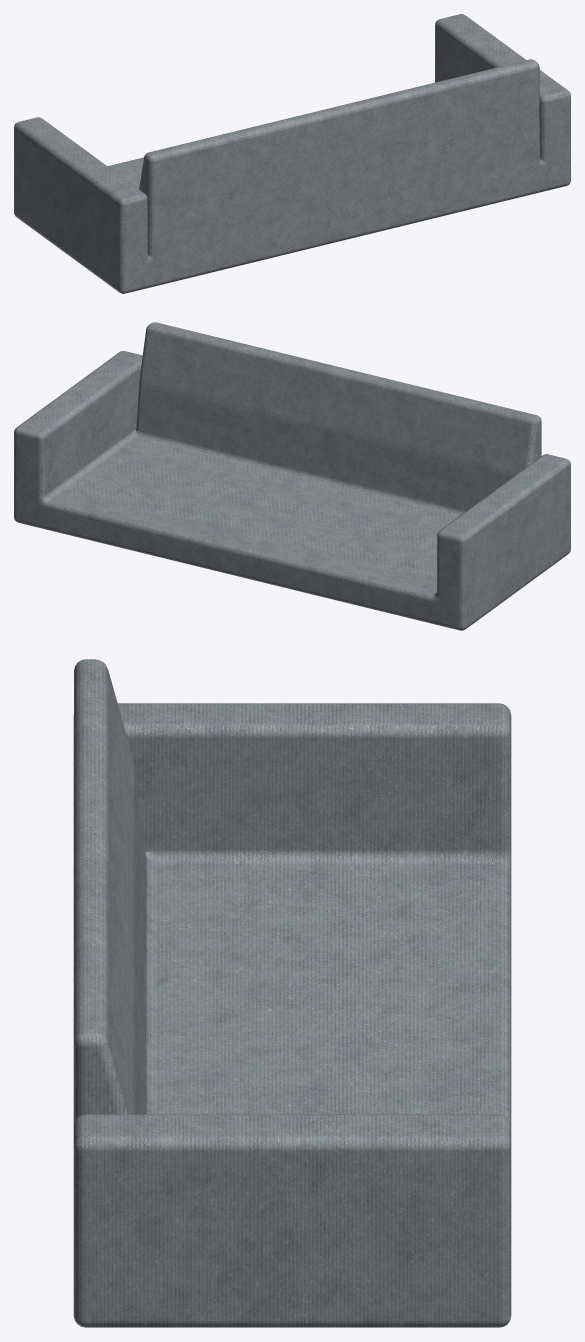
File: Sofa2.fbx
3 renders of one model, top to bottom at view 1: azimuth 30°, elevation 25°; view 2: azimuth 150°, elevation 25°; view 3: azimuth 270°, elevation 25°, orthographic. The views are drawn at different scales.
Parts seen in each view (by area): view 1: polySurface738; view 2: polySurface738; view 3: polySurface738.
Boxes of the visible parts, box(x1,y1,x2,y2) form: polySurface738: box(14, 14, 570, 293); polySurface738: box(14, 322, 570, 630); polySurface738: box(73, 659, 511, 1327).
Size of the model in its own units: 2.48 by 0.6916 by 1.04.
1 material, 1 textured.
